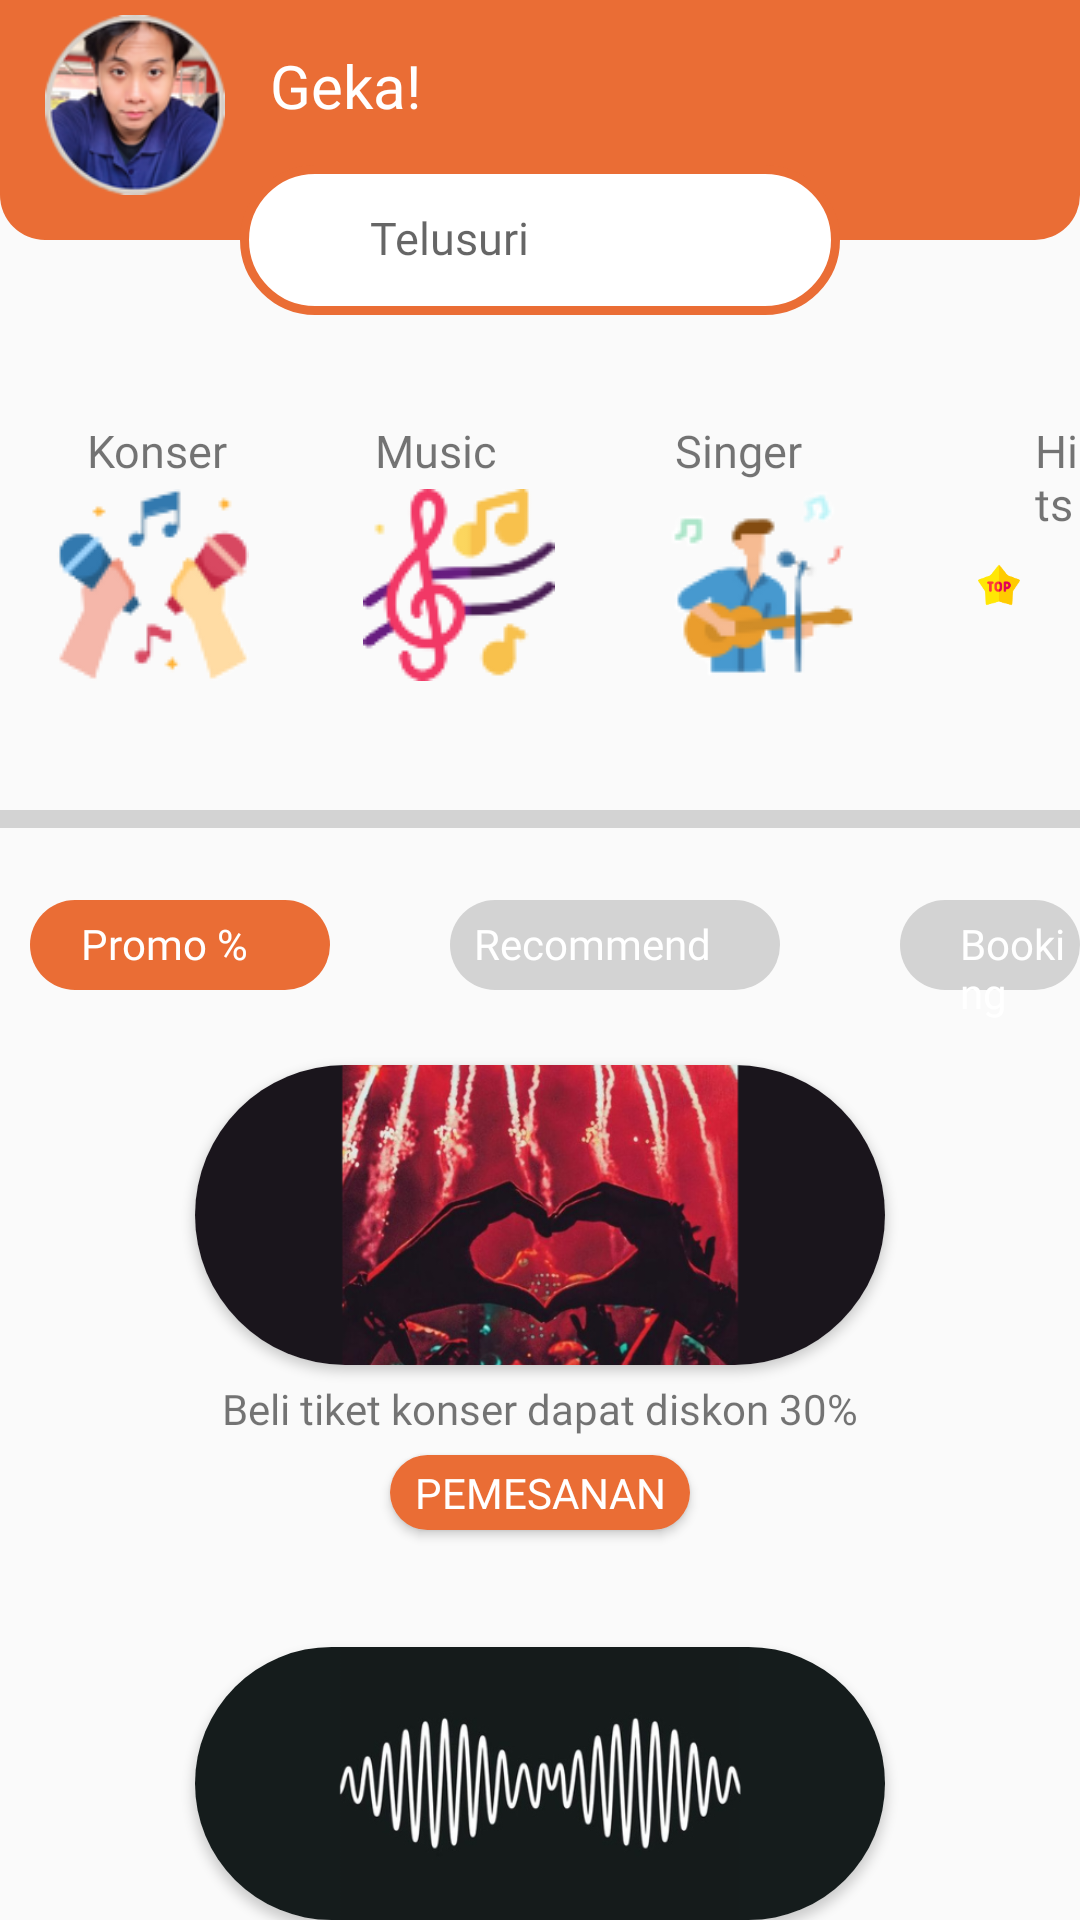

Screen size 1080px x 1920px. Icon name, then its center in pixels as [x,y]:
profile: [135,105]
